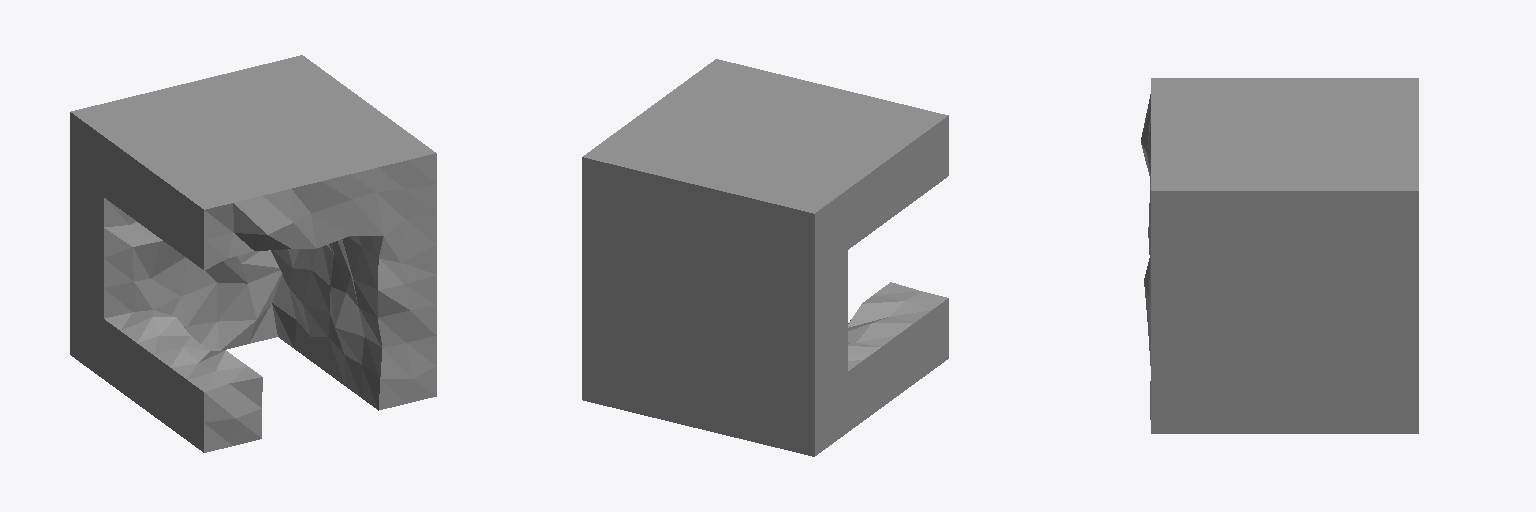
Rendered from turn.obj.
3 renders of one model, left to right at view 1: azimuth 30°, elevation 25°; view 2: azimuth 150°, elevation 25°; view 3: azimuth 270°, elevation 25°, orthographic.
Parts seen in each view (by area): view 1: Plane; view 2: Plane; view 3: Plane.
Part boxes in pixels (x1,y1,x2,y2): Plane: (70,55,436,452); Plane: (582,59,948,456); Plane: (1141,78,1418,433).
Bounding box in the file's own units: 2 × 2 × 2.08.